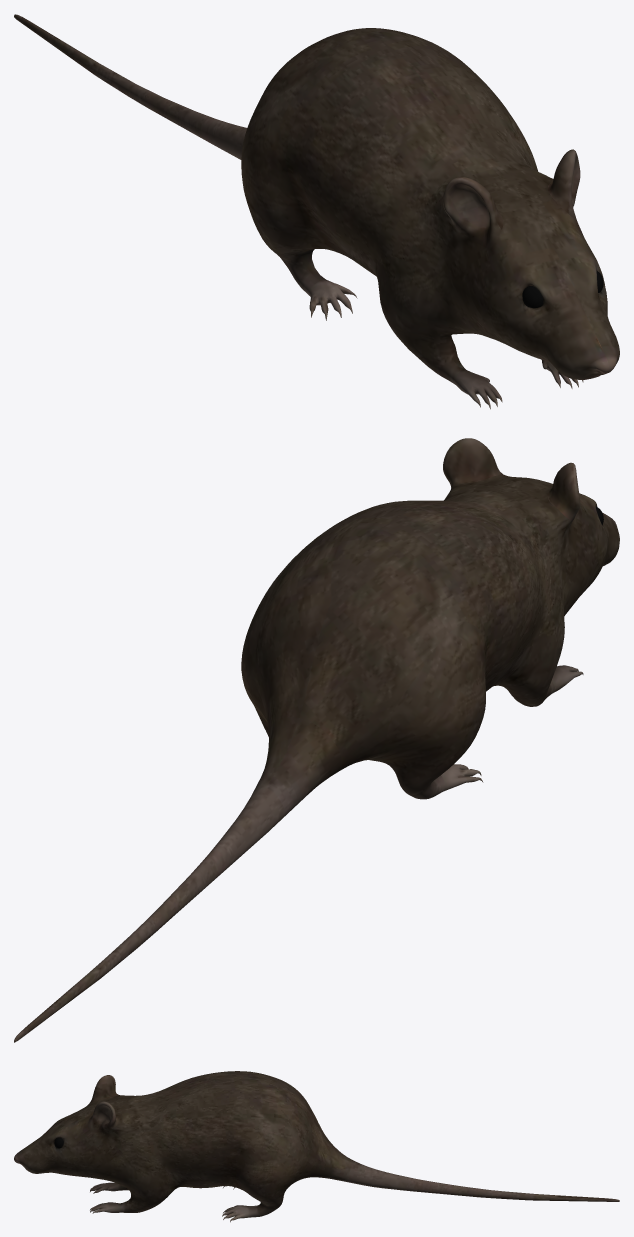
File: rat.glb
3 views of the same model, one above another, from view 1: azimuth 30°, elevation 25°; view 2: azimuth 150°, elevation 25°; view 3: azimuth 270°, elevation 25° (orthographic). The views are drawn at different scales.
Visible parts, largest first — view 1: street_rat; view 2: street_rat; view 3: street_rat.
Boxes of the visible parts, <box> form: street_rat: <box>14,14,619,409</box>; street_rat: <box>14,438,619,1042</box>; street_rat: <box>14,1071,619,1222</box>.
Bounding box in the file's own units: 0.032 × 0.0339 × 0.1483.
1 material, 1 textured.
